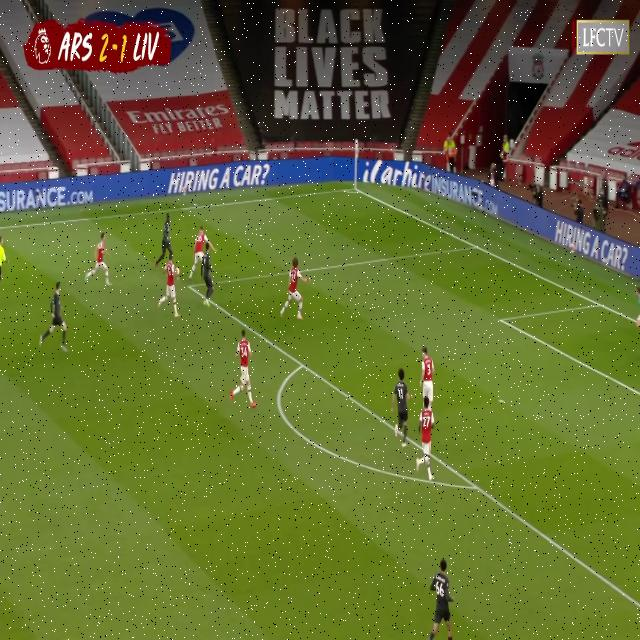Ball: (175, 267, 179, 276)
TEAM 1: (230, 334, 256, 410), (414, 402, 437, 481), (82, 230, 113, 286), (281, 258, 307, 323), (157, 251, 181, 314), (420, 350, 436, 423), (191, 226, 208, 277)
TEAM 2: (422, 560, 454, 640), (36, 282, 69, 351), (391, 369, 411, 445), (155, 208, 174, 270), (199, 244, 217, 307)
